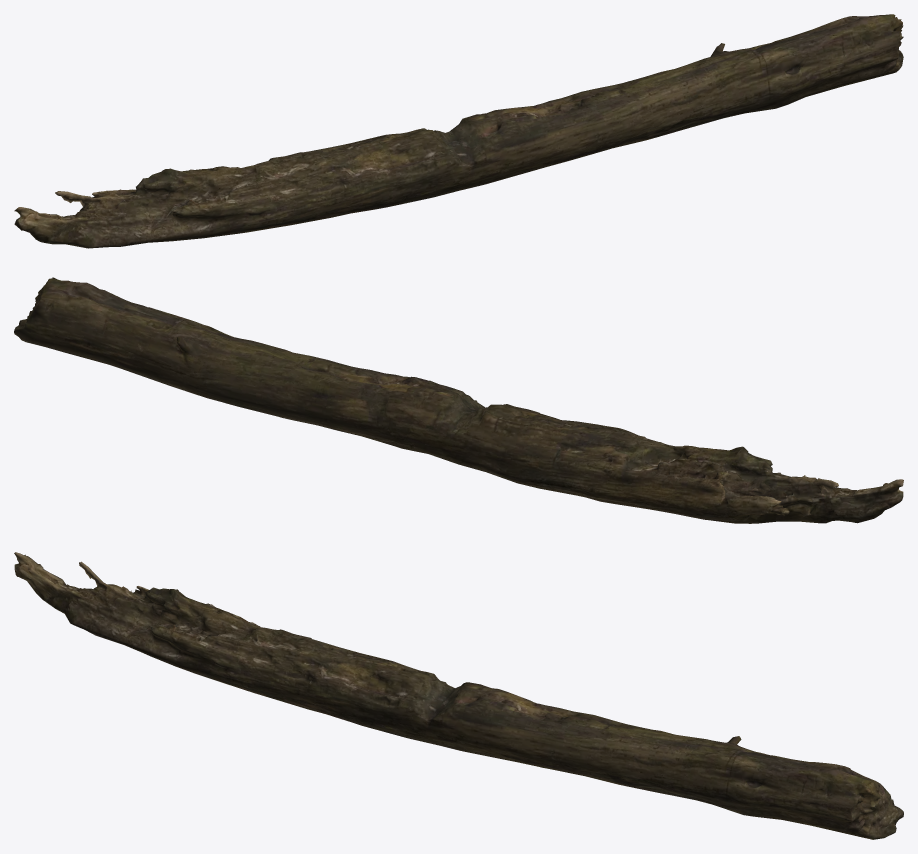
The model's file is dead_tree_trunk.glb.
The picture shows the model from 3 angles, top to bottom: view 1: azimuth 30°, elevation 25°; view 2: azimuth 150°, elevation 25°; view 3: azimuth 330°, elevation 25°; orthographic projection.
Parts seen in each view (by area): view 1: dead_tree_trunk; view 2: dead_tree_trunk; view 3: dead_tree_trunk.
Part boxes in pixels (x1,y1,x2,y2): dead_tree_trunk: (14,14,903,248); dead_tree_trunk: (14,277,903,523); dead_tree_trunk: (14,552,903,839).
Size of the model in its own units: 3.05 by 0.2905 by 0.2771.
1 material, 1 textured.
